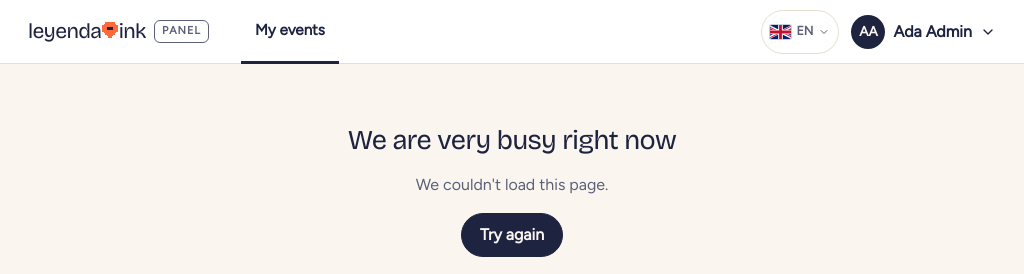
Test: logout › stays signed in and says so when sign-out fails
This screenshot has width=1024, height=274.
Click the button with aria-label "Account menu". click: click(926, 32)
box: [847,10,1004,54]
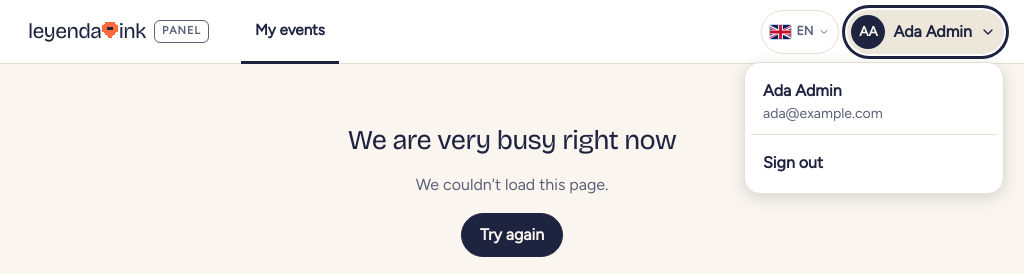
Click the menu item "Sign out". click: click(874, 163)
box: [751,139,997,187]
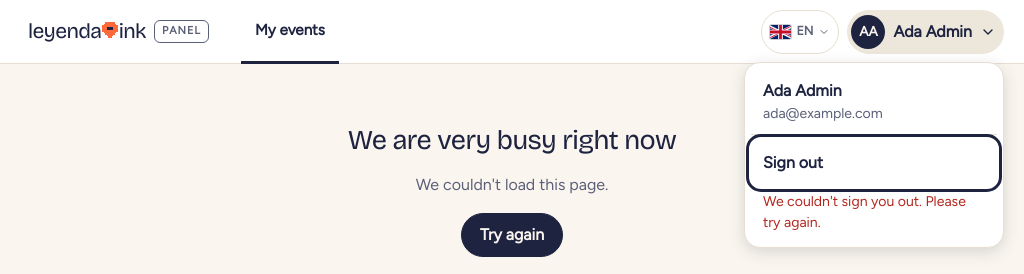
Now the text "We couldn't sign you out. Please try again." is shown, box [763,193,966,231]
